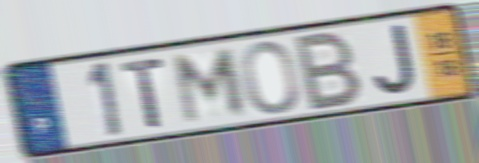1: (84, 58, 125, 140)
B: (293, 27, 365, 114)
J: (371, 21, 418, 98)
M: (172, 46, 249, 127)
O: (239, 38, 302, 117)
T: (118, 54, 168, 131)
